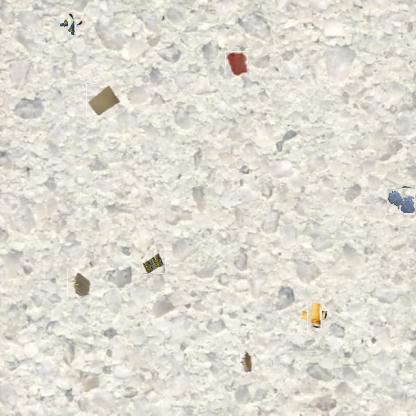dirty: (86, 83, 121, 117), (67, 270, 92, 300), (142, 250, 165, 274), (303, 305, 326, 328), (240, 352, 253, 372), (64, 16, 80, 32)
liquid: (388, 186, 416, 214), (224, 52, 249, 76)
